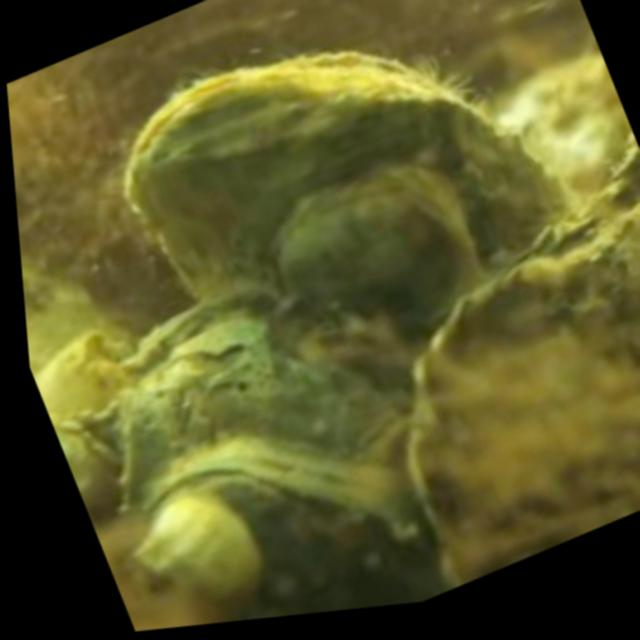Oyster-Closed: (126, 48, 576, 305), (135, 443, 445, 628)
Oyster-Indeterminate: (418, 209, 640, 581), (119, 290, 426, 517), (285, 172, 485, 328)
